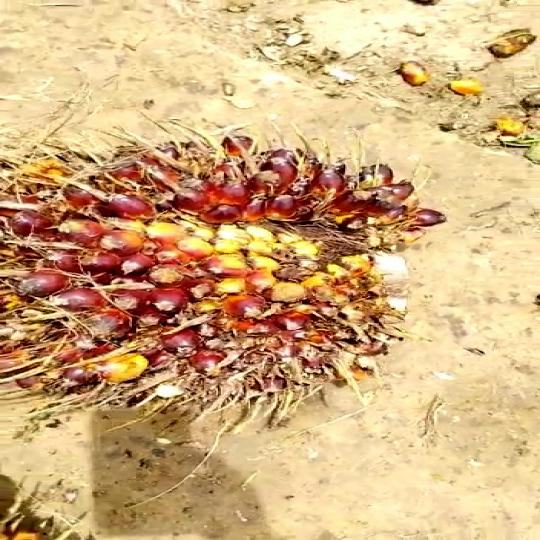masak: (0, 127, 420, 440)
